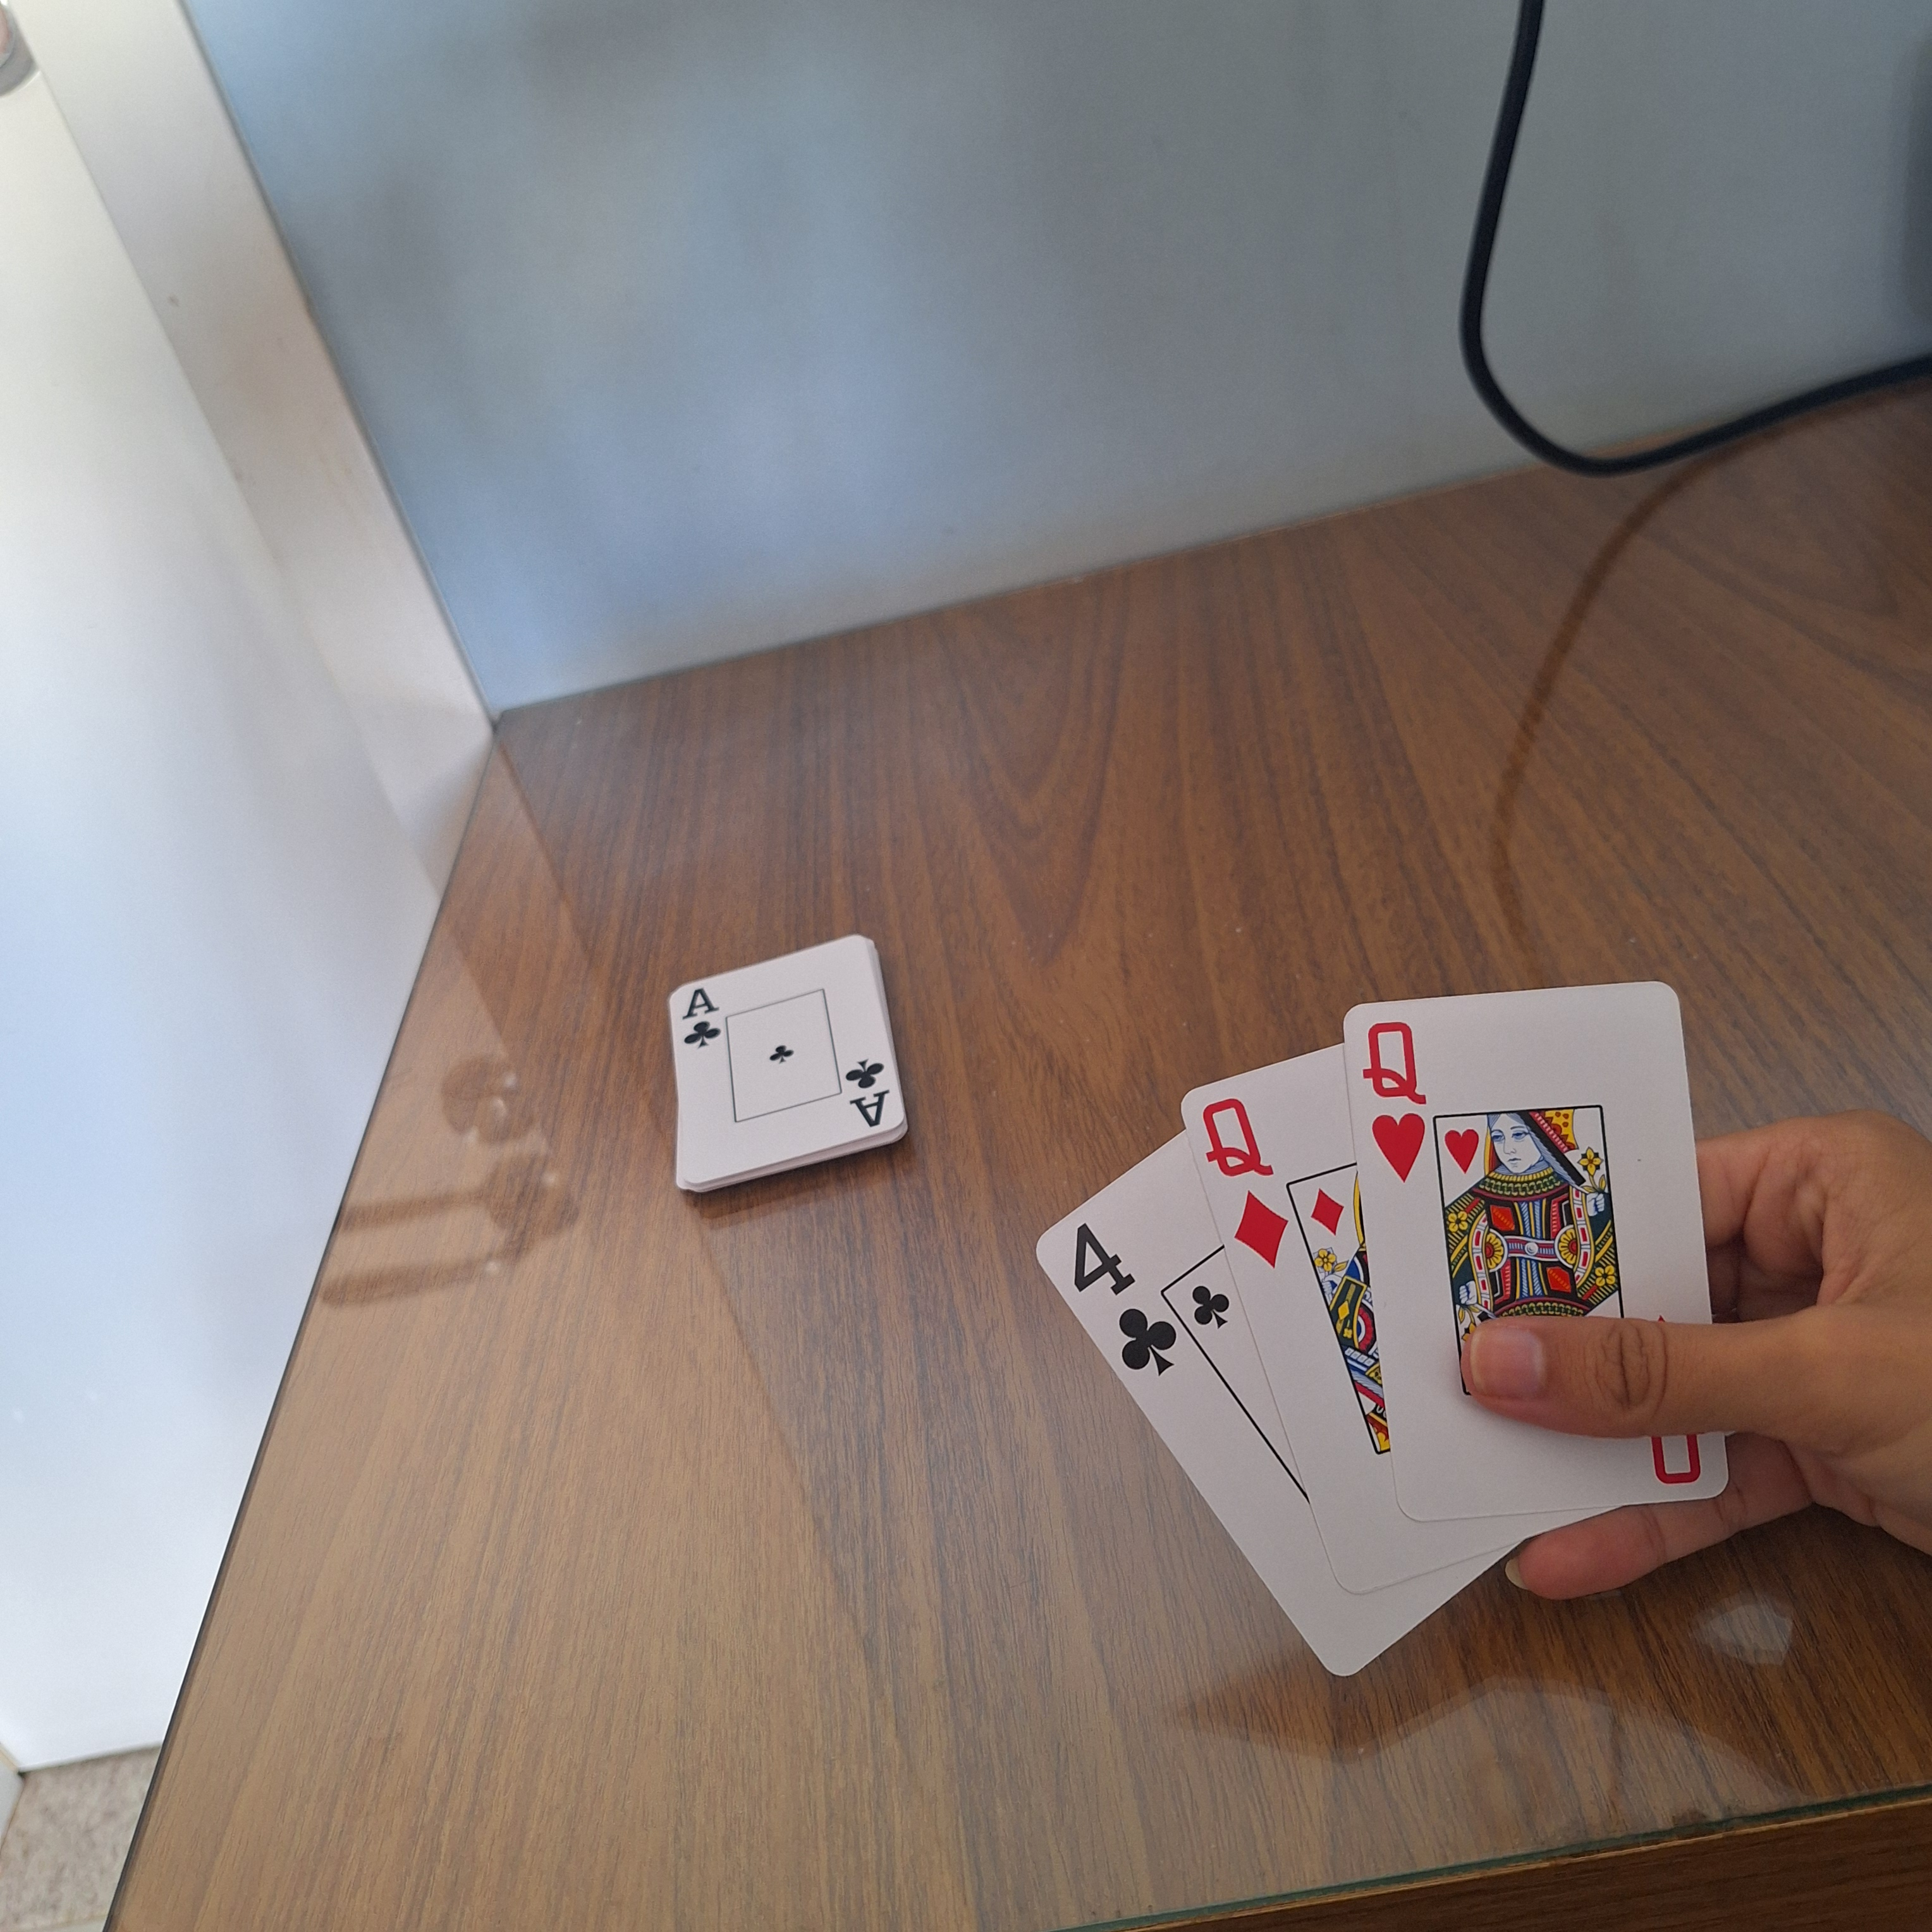4P: (1056, 1215, 1185, 1392)
AP: (839, 1053, 897, 1134), (676, 984, 727, 1058)
QC: (1357, 1012, 1437, 1191)
QO: (1198, 1092, 1299, 1272)
